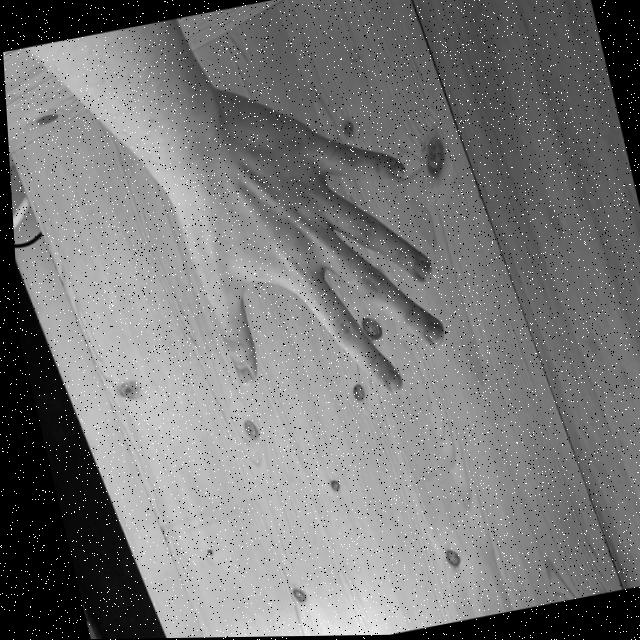hand: (147, 51, 460, 428)
